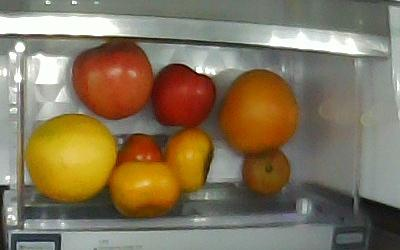apple: (72, 40, 154, 120), (149, 62, 216, 127)
grapefruit: (27, 113, 117, 203), (218, 69, 297, 155)
persimmon: (110, 161, 181, 218), (166, 129, 214, 192)
prune: (242, 150, 290, 197), (115, 132, 161, 162)
